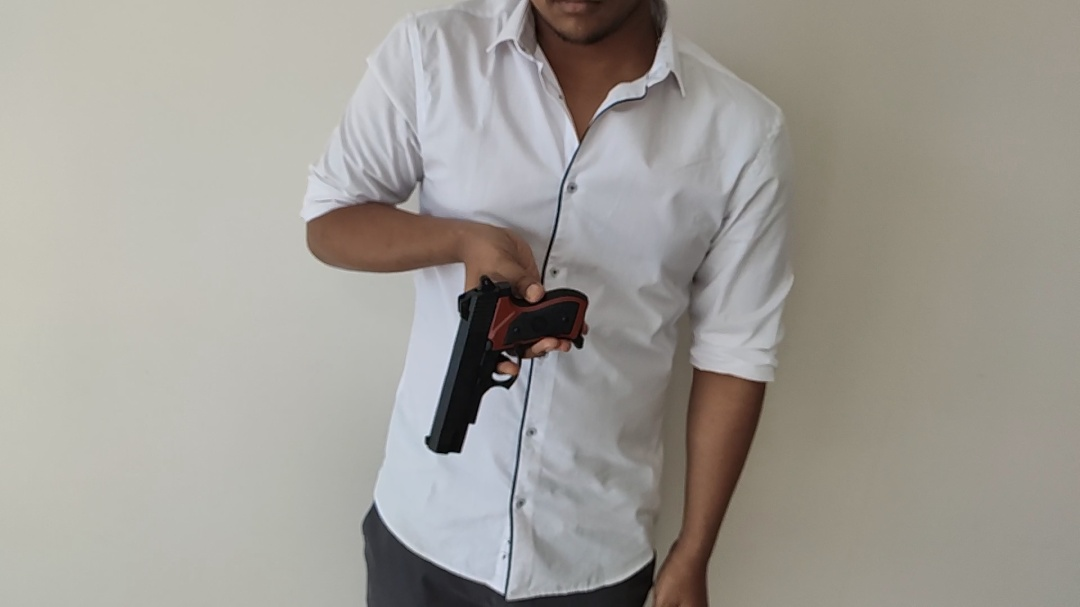gun: (423, 274, 590, 456)
